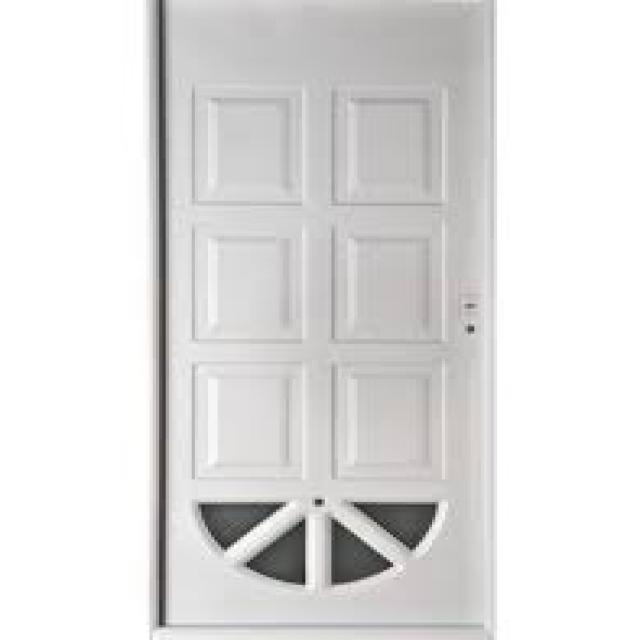door: (156, 1, 497, 639)
